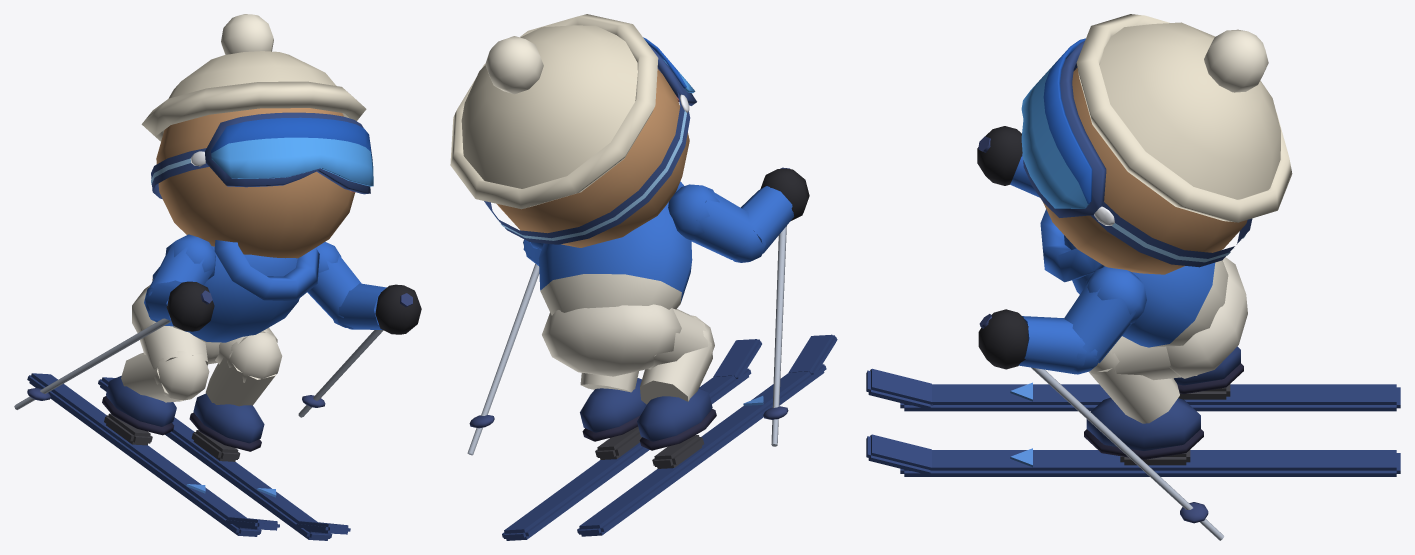
Rendered from rider_ski_ride.glb.
3 renders of one model, left to right at view 1: azimuth 30°, elevation 25°; view 2: azimuth 150°, elevation 25°; view 3: azimuth 270°, elevation 25°, orthographic. The views are drawn at different scales.
Parts seen in each view (by area): view 1: RSK_Head, RSK_GoggleLens, RSK_Cuff, RSK_Torso, RSK_Ski_-1, RSK_Beanie, RSK_Ski_1, RSK_Collar, RSK_GoggleFrame, RSK_Shoe_R, RSK_Knee_L, RSK_Shin_R (+22 smaller); view 2: RSK_Beanie, RSK_Torso, RSK_Head, RSK_Cuff, RSK_Pelvis, RSK_Ski_-1, RSK_Ski_1, RSK_GoggleStrap, RSK_Shin_L, RSK_Shoe_L, RSK_Pom, RSK_UpperArm_L (+17 smaller); view 3: RSK_Beanie, RSK_Ski_1, RSK_Head, RSK_Ski_-1, RSK_Cuff, RSK_GoggleLens, RSK_Torso, RSK_Pelvis, RSK_Shoe_R, RSK_Pom, RSK_UpperArm_R, RSK_Shin_R (+14 smaller).
Boxes of the visible parts, x1,y1,x2,y2 form: RSK_Head: (156,108,354,258); RSK_GoggleLens: (211,117,373,186); RSK_Cuff: (141,81,366,141); RSK_Torso: (152,246,299,342); RSK_Ski_-1: (27,373,261,536); RSK_Beanie: (168,51,336,98); RSK_Ski_1: (98,377,332,540); RSK_Collar: (214,240,319,301); RSK_GoggleFrame: (205,112,370,194); RSK_Shoe_R: (193,393,264,443); RSK_Knee_L: (154,351,209,400); RSK_Shin_R: (205,356,275,406); RSK_Beanie: (461,25,637,188); RSK_Torso: (538,202,692,315); RSK_Head: (496,69,689,247); RSK_Cuff: (450,14,658,209); RSK_Pelvis: (542,304,681,376); RSK_Ski_-1: (577,364,826,536); RSK_Ski_1: (502,368,751,540); RSK_GoggleStrap: (484,91,690,244); RSK_Shin_L: (640,340,712,404); RSK_Shoe_L: (637,388,712,441); RSK_Pom: (485,36,543,94); RSK_UpperArm_L: (687,189,754,259); RSK_Beanie: (1099,22,1280,199); RSK_Ski_1: (900,450,1400,476); RSK_Head: (1042,68,1247,274); RSK_Ski_-1: (900,384,1400,411); RSK_Cuff: (1076,14,1292,222); RSK_GoggleLens: (1021,38,1092,208); RSK_Torso: (1064,235,1228,347); RSK_Pelvis: (1166,257,1247,378); RSK_Shoe_R: (1086,397,1200,450); RSK_Pom: (1204,29,1268,92); RSK_UpperArm_R: (1064,279,1136,363); RSK_Shin_R: (1089,368,1179,423).
Size of the model in its own units: 0.8689 by 1.06 by 1.07.
